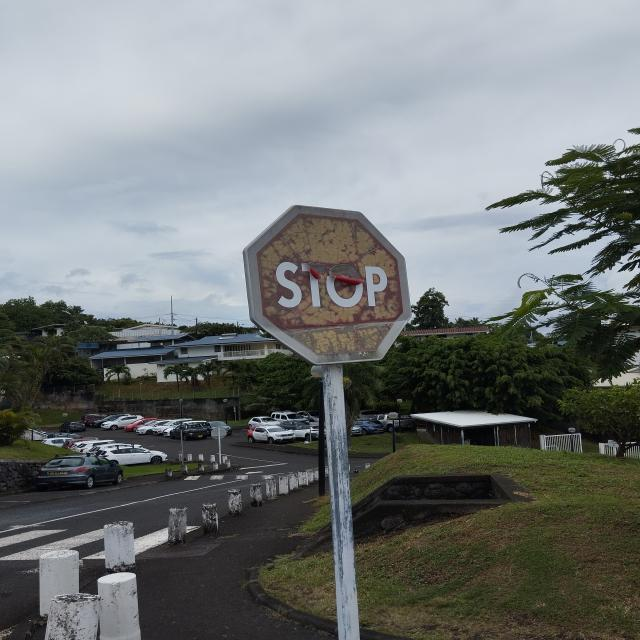Panneau-Stop: (244, 201, 414, 367)
